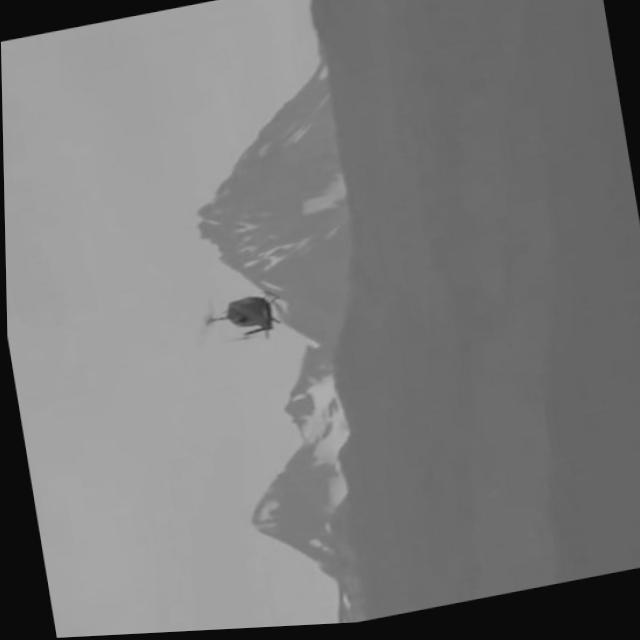helikopter: (177, 261, 309, 376)
